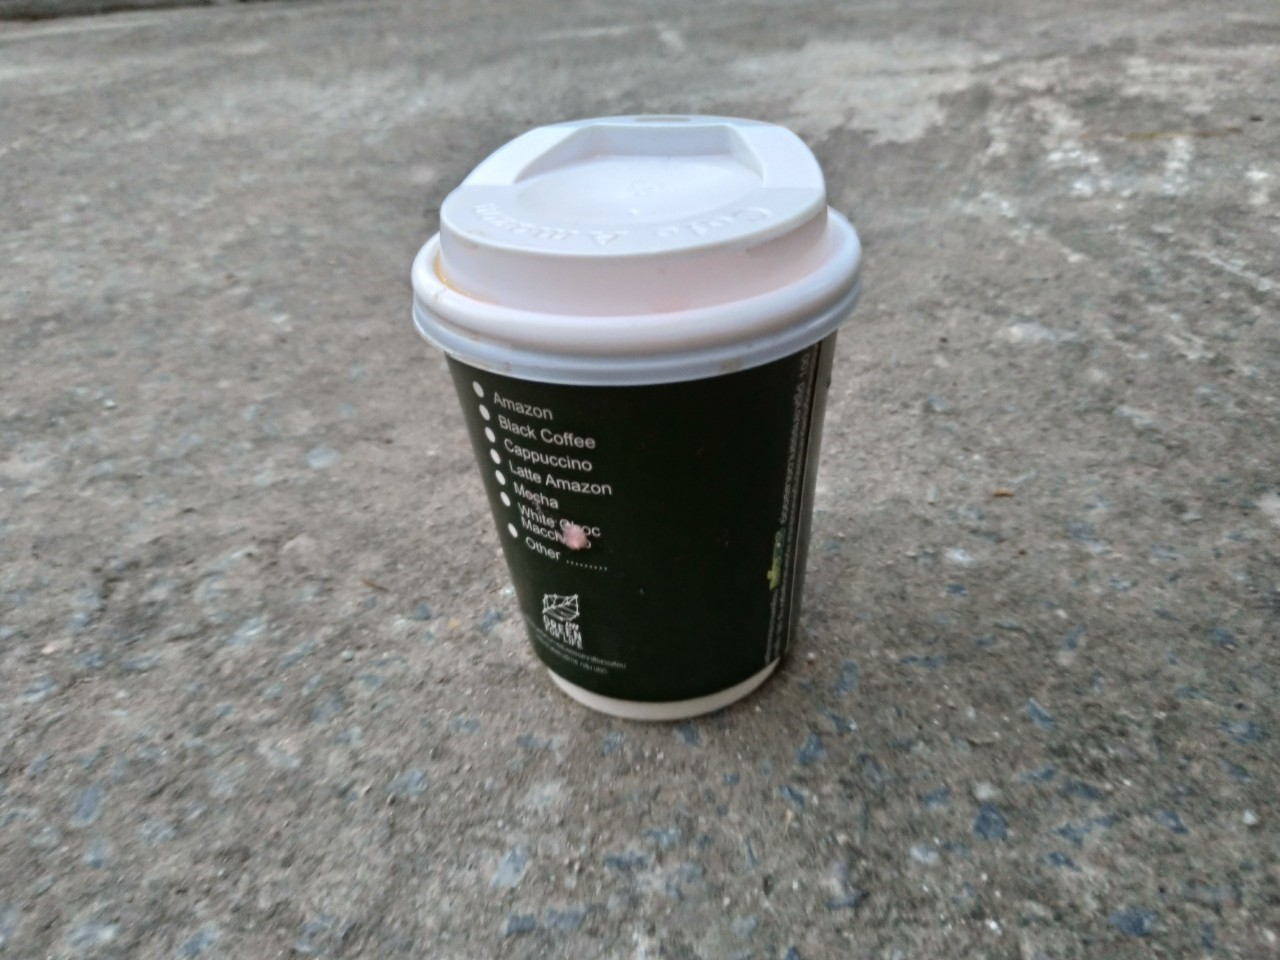PaperCup: (403, 118, 868, 725)
